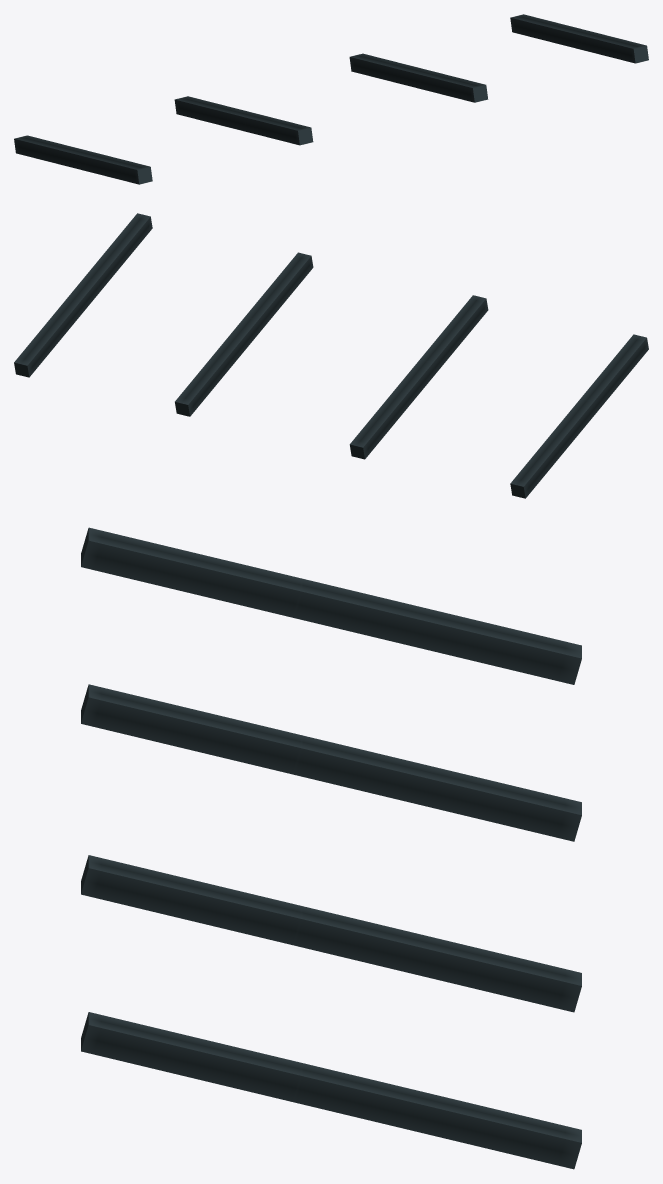
Rendered from roof_beam_v5a001.fbx.
3 renders of one model, top to bottom at view 1: azimuth 30°, elevation 25°; view 2: azimuth 150°, elevation 25°; view 3: azimuth 270°, elevation 25°, orthographic. The views are drawn at different scales.
Parts seen in each view (by area): view 1: roof_beam_v5a001; view 2: roof_beam_v5a001; view 3: roof_beam_v5a001.
Part boxes in pixels (bbox=[...]): roof_beam_v5a001: bbox=[14, 14, 648, 184]; roof_beam_v5a001: bbox=[14, 213, 648, 498]; roof_beam_v5a001: bbox=[81, 527, 581, 1169].
Bounding box in the file's own units: 1019 × 138 × 434.
